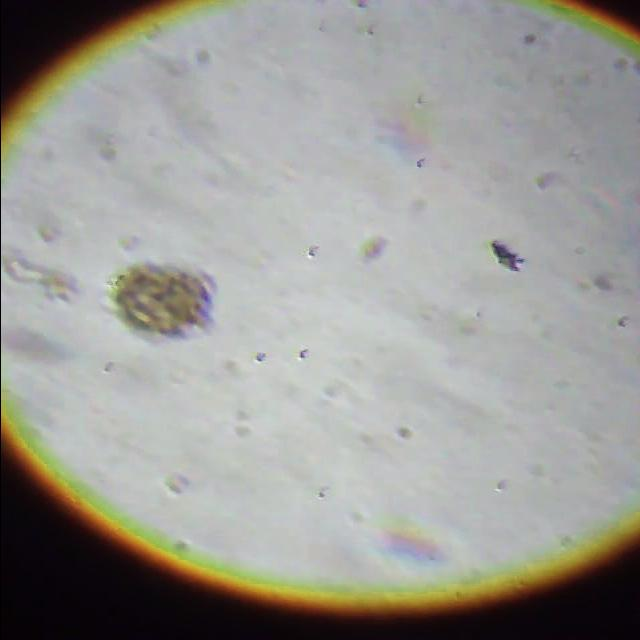alexandrium: (109, 264, 217, 348)
